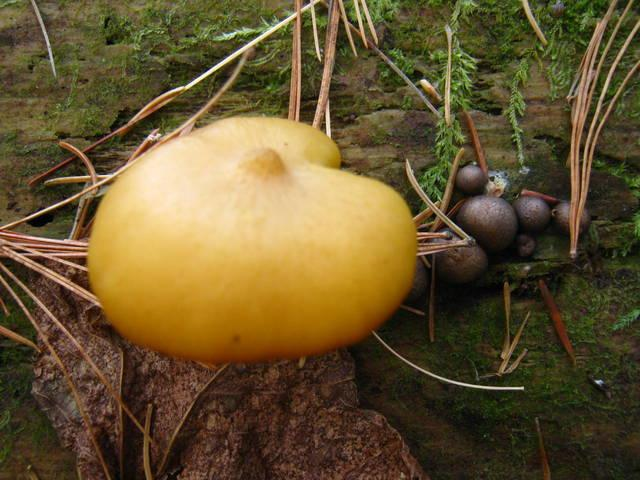Non-edible Mushroom: (85, 114, 419, 365), (456, 193, 517, 251), (434, 239, 488, 284), (512, 194, 550, 232), (551, 200, 591, 234), (455, 162, 487, 194)
